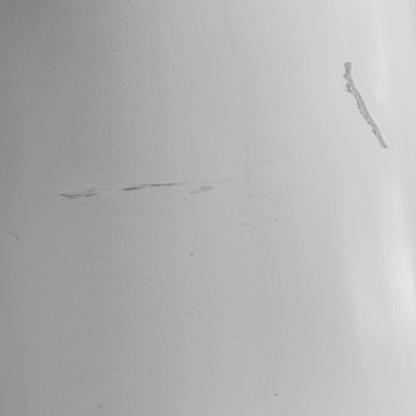sunshang: (346, 58, 393, 148), (55, 179, 214, 199)
